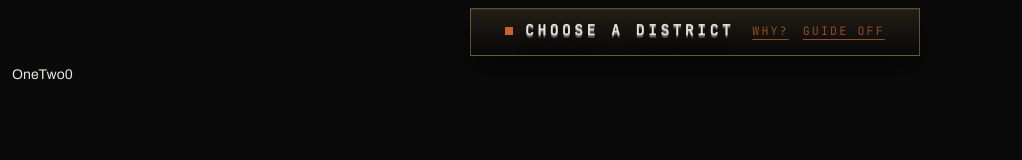
Scenario: guide layer › keeps the long text one tap away (WHY?), never visible by default
Expected: the text "Longer explanation." is not shown
Click the button "WHY?" at (771, 32), box x1=752 y1=19 x2=789 y2=44
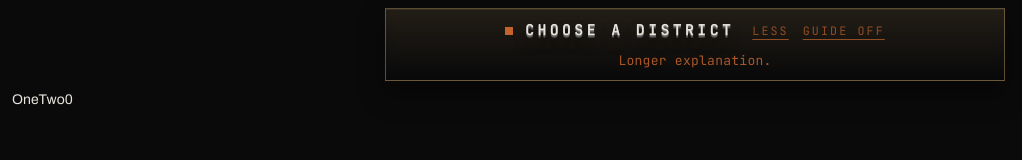
Expected: the text "Longer explanation." is shown, x1=618 y1=52 x2=772 y2=68
